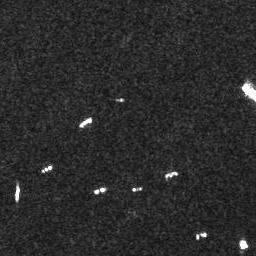ship: (241, 81, 256, 102), (79, 115, 92, 129), (13, 184, 22, 203), (39, 164, 54, 173), (196, 230, 209, 240), (164, 171, 180, 179), (93, 186, 107, 195), (132, 185, 141, 192)
